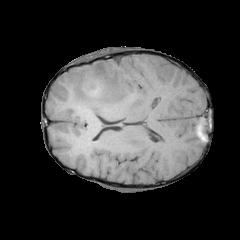glioma: (70, 61, 128, 115)
